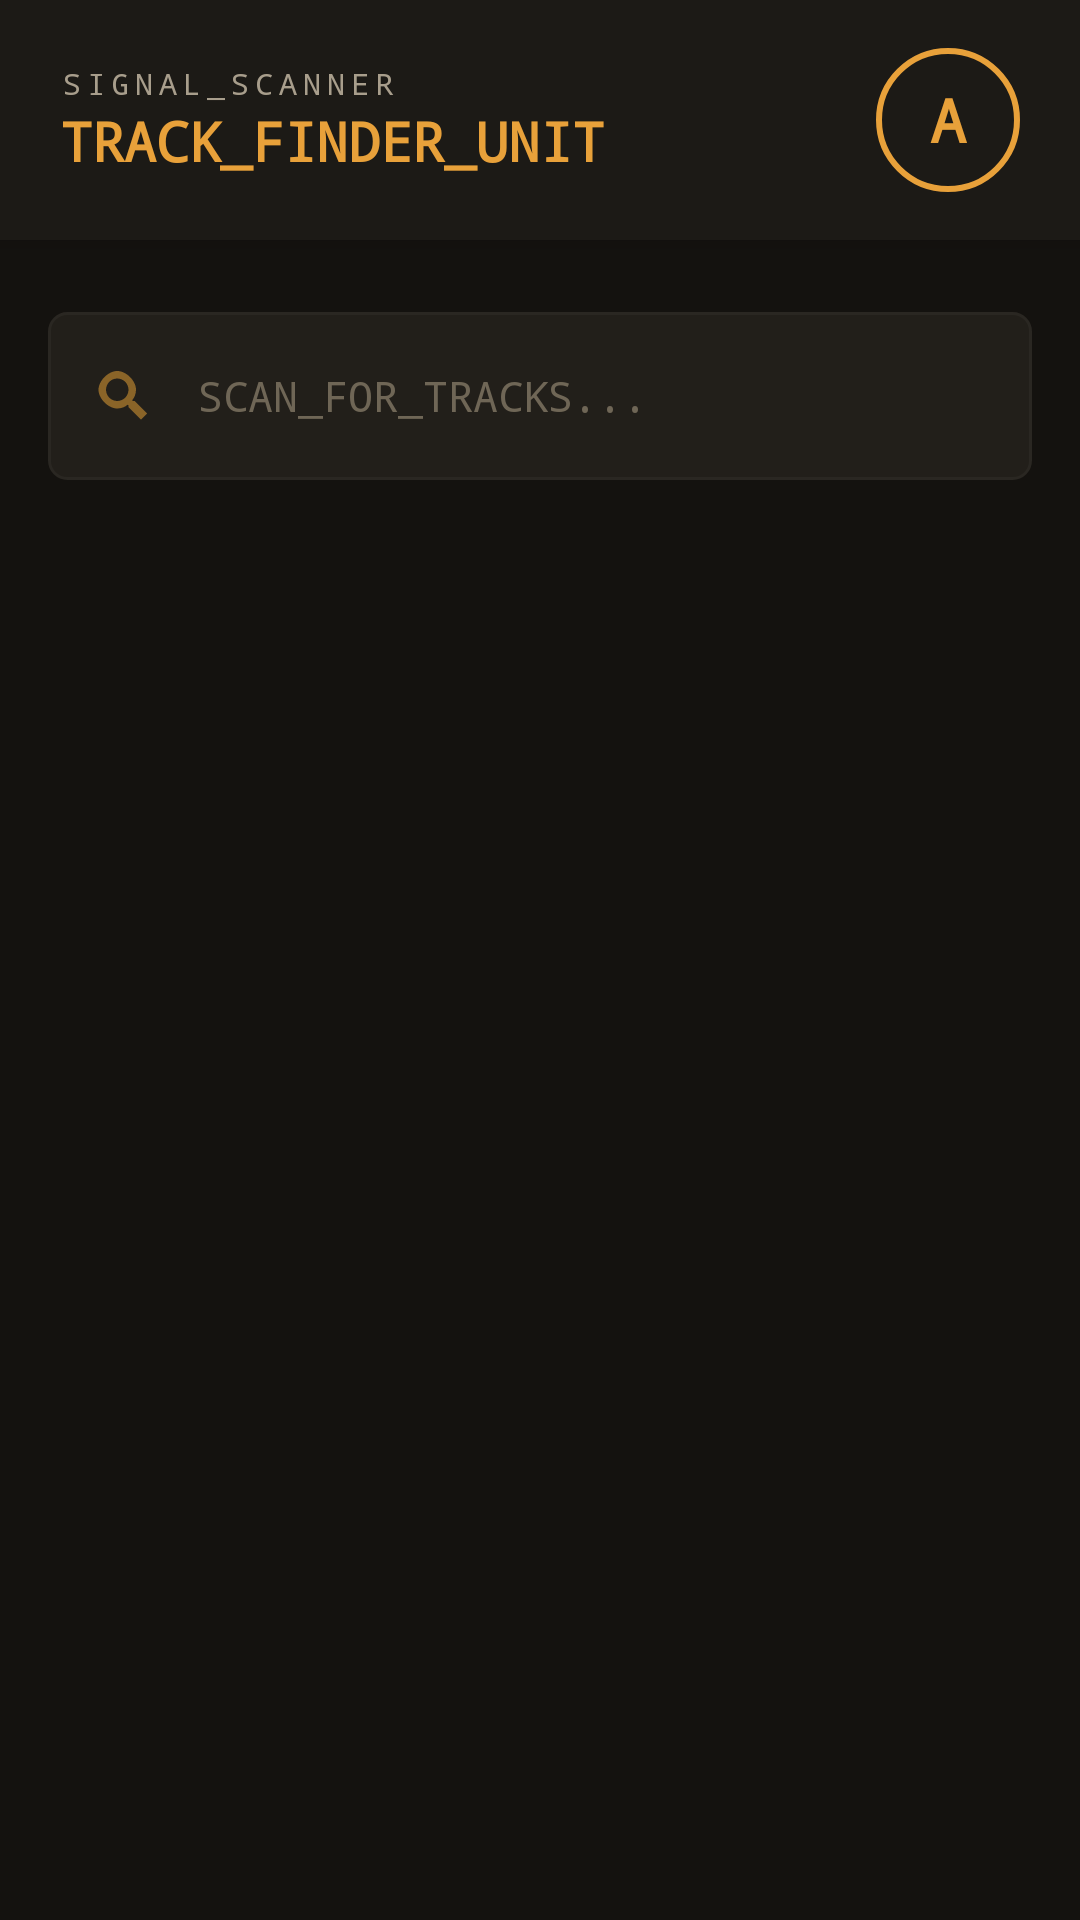

Point at icon controls on the screen. Image size 1080×1920, points as (x,y).
Szukaj: (122,395)
